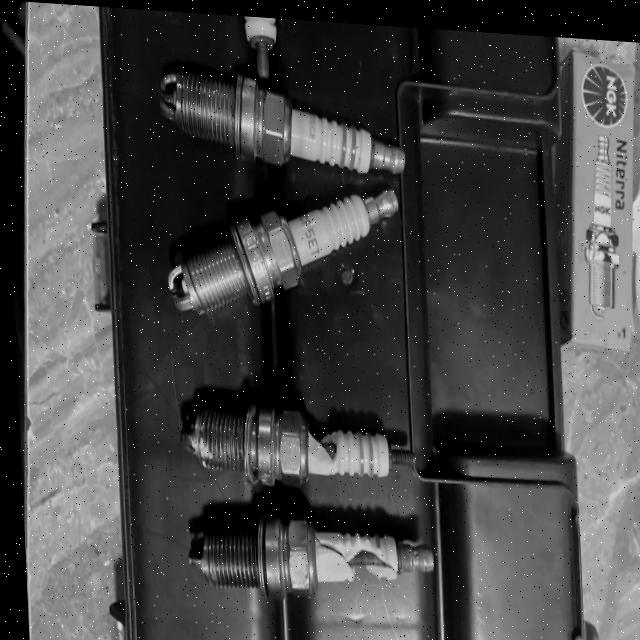damaged_spark-plug: (152, 395, 425, 483), (172, 502, 437, 591)
spark-plug: (141, 175, 408, 331), (147, 56, 414, 184)
